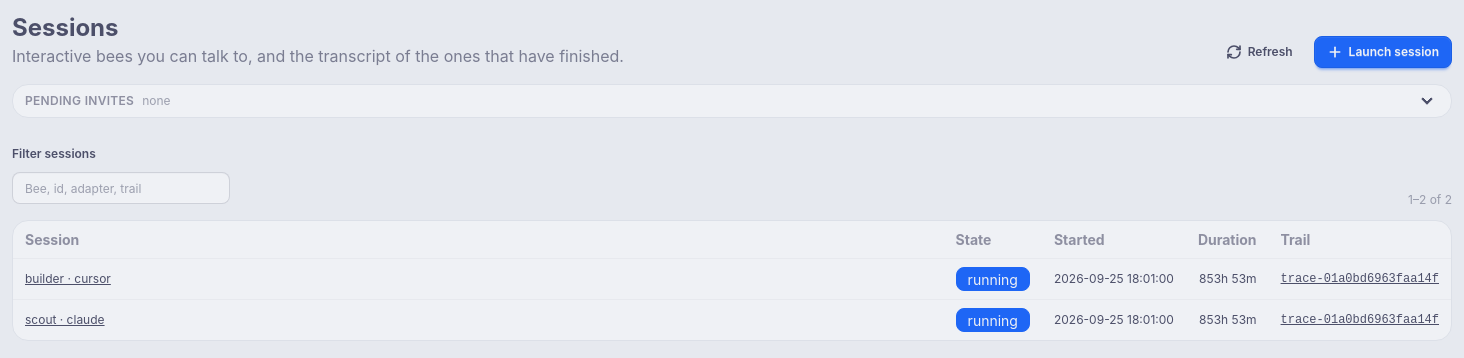
Test: sessions list › filters by the adapter and the id, which are searchable but not shown
Expected: the element labelled "sessions" is shown, [12,134,1452,341]
Type "claude" into the search field labelled "Filter sessions" at {"x": 121, "y": 188}, box [12,172,230,204]
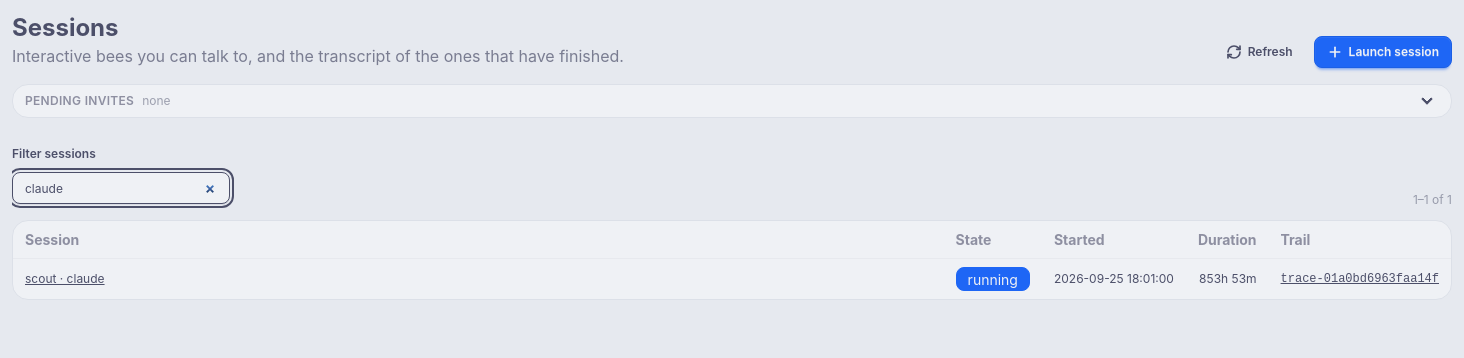
Expected: the link "scout · claude" is shown, [25,270,105,288]
Expected: the link "builder · cursor" is gone
